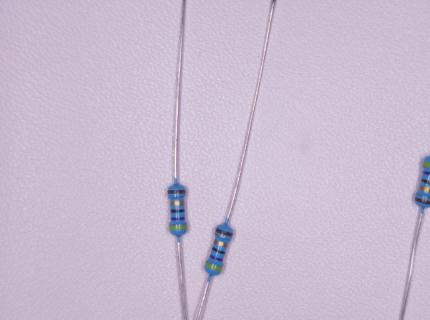Gold band: (214, 239, 228, 248), (419, 185, 429, 193), (170, 201, 185, 206)
Violet band: (209, 254, 223, 262), (170, 217, 185, 221), (422, 171, 429, 177)
Yellow band: (205, 261, 223, 272), (169, 225, 188, 231), (422, 161, 429, 168)
